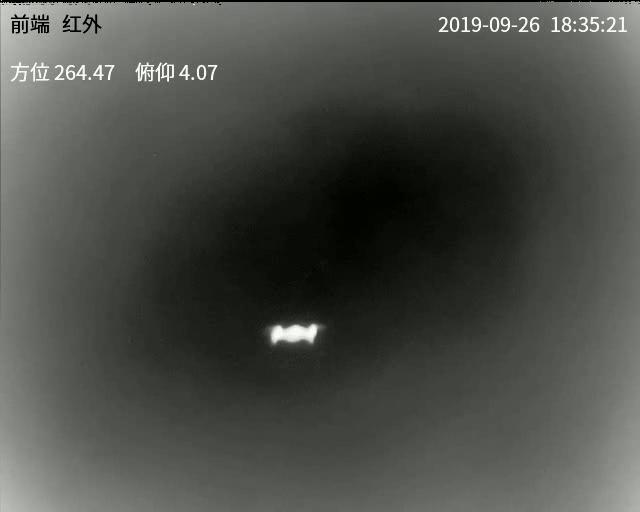DRONE: (269, 322, 318, 345)
